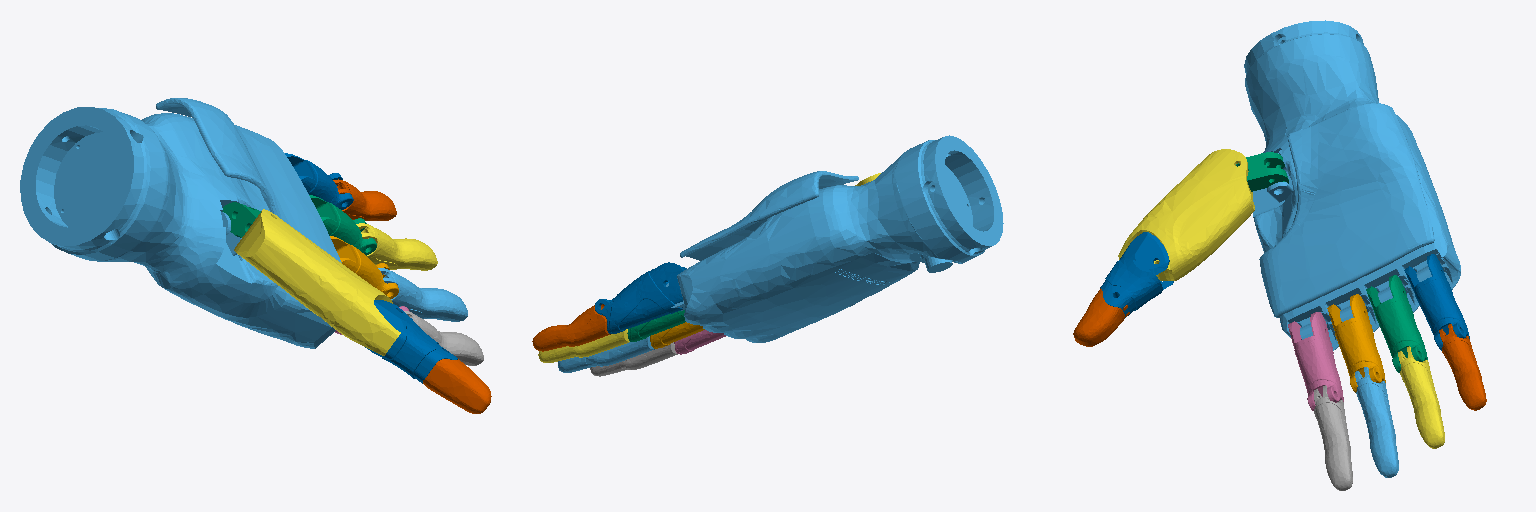
robot.urdf — inspire_hand_right:
<robot name="inspire_hand_right">
  <link name="base" />
  <joint name="base_joint" type="fixed">
    <parent link="base" />
    <child link="hand_base_link" />
    <origin xyz="-0.013 0.001 0.039" rpy="-2.31159 2.35841 -0.66159" />
    
    
  </joint>
  <link name="hand_base_link">
    <parent link="base" />
    <inertial>
      <origin xyz="-0.0025264 -0.066047 0.0019598" rpy="0 0 0" />
      <mass value="0.14143" />
      <inertia ixx="0.00012281" ixy="2.1711E-06" ixz="1.7709E-06" iyy="8.3832E-05" iyz="-1.6551E-06" izz="7.6663E-05" />
    </inertial>
    <visual>
      <origin xyz="0 0 0" rpy="0 0 0" />
      <geometry>
        <mesh filename="meshes/visual/right_base_link.obj" />
      </geometry>
    </visual>
    <collision>
      <origin xyz="0 -0.0136 0" rpy="1.57079 0 0" />
      <geometry>
        <cylinder length="0.0278" radius="0.028" />
      </geometry>
    </collision>
    <collision>
      <origin xyz="-0.0032 -0.038 0" rpy="0 0 0" />
      <geometry>
        <box size="0.0391 0.0202 0.0574" />
      </geometry>
    </collision>
    <collision>
      <origin xyz="-0.0032 -0.0682 0" rpy="0 0 0" />
      <geometry>
        <box size="0.0391 0.04 0.0814" />
      </geometry>
    </collision>
    <collision>
      <origin xyz="0 -0.1081 0" rpy="0 0 0" />
      <geometry>
        <box size="0.0322 0.04 0.0814" />
      </geometry>
    </collision>
    <collision>
      <origin xyz="-0.0016 -0.1340 0.0309" rpy="0 0 0" />
      <geometry>
        <box size="0.0125 0.0111 0.0089" />
      </geometry>
    </collision>
    <collision>
      <origin xyz="-0.0016 -0.1340 0.0118" rpy="0 0 0" />
      <geometry>
        <box size="0.0125 0.0111 0.0089" />
      </geometry>
    </collision>
    <collision>
      <origin xyz="-0.0016 -0.1340 -0.0070" rpy="0 0 0" />
      <geometry>
        <box size="0.0125 0.0111 0.0089" />
      </geometry>
    </collision>
    <collision>
      <origin xyz="-0.0016 -0.1340 -0.0262" rpy="0 0 0" />
      <geometry>
        <box size="0.0125 0.0111 0.0089" />
      </geometry>
    </collision>
  </link>
  <link name="thumb_proximal_base">
    <inertial>
      <origin xyz="-0.0048064 0.0009382 -0.00757" rpy="0 0 0" />
      <mass value="0.0018869" />
      <inertia ixx="5.816E-08" ixy="1.4539E-08" ixz="4.491E-09" iyy="7.9161E-08" iyz="-1.8727E-09" izz="6.7433E-08" />
    </inertial>
    <visual>
      <origin xyz="0 0 0" rpy="0 0 0" />
      <geometry>
        <mesh filename="meshes/visual/right_thumb_proximal_base.obj" />
      </geometry>
    </visual>
    <collision>
      <origin xyz="0 0 0" rpy="0 0 0" />
      <geometry>
        <mesh filename="meshes/collision/right_thumb_proximal_base.obj" />
      </geometry>
    </collision>
  </link>
  <joint name="thumb_proximal_yaw_joint" type="revolute">
    <origin xyz="-0.01696 -0.0691 -0.02045" rpy="1.5708 -1.5708 0" />
    <parent link="hand_base_link" />
    <child link="thumb_proximal_base" />
    <axis xyz="0 0 -1" />
    <limit lower="0.0" upper="1.308" effort="1" velocity="0.5" />
  </joint>
  <link name="thumb_proximal">
    <inertial>
      <origin xyz="0.021932 0.012785 -0.0080386" rpy="0 0 0" />
      <mass value="0.0066075" />
      <inertia ixx="1.5686E-06" ixy="-7.8296E-07" ixz="8.9143E-10" iyy="1.7353E-06" iyz="-1.0191E-09" izz="2.786E-06" />
    </inertial>
    <visual>
      <origin xyz="0 0 0" rpy="0 0 0" />
      <geometry>
        <mesh filename="meshes/visual/right_thumb_proximal.obj" />
      </geometry>
    </visual>
    <collision>
      <origin xyz="0 0 0" rpy="0 0 0" />
      <geometry>
        <mesh filename="meshes/collision/right_thumb_proximal.obj" />
      </geometry>
    </collision>
  </link>
  <joint name="thumb_proximal_pitch_joint" type="revolute">
    <origin xyz="-0.0088099 0.010892 -0.00925" rpy="1.5708 0 2.8587" />
    <parent link="thumb_proximal_base" />
    <child link="thumb_proximal" />
    <axis xyz="0 0 1" />
    <limit lower="0" upper="0.6" effort="1" velocity="0.5" />
  </joint>
  <link name="thumb_intermediate">
    <inertial>
      <origin xyz="0.0095544 -0.0016282 -0.0071997" rpy="0 0 0" />
      <mass value="0.0037847" />
      <inertia ixx="3.6981E-07" ixy="-9.8581E-08" ixz="-4.7469E-12" iyy="3.2394E-07" iyz="1.0939E-12" izz="4.6531E-07" />
    </inertial>
    <visual>
      <origin xyz="0 0 0" rpy="0 0 0" />
      <geometry>
        <mesh filename="meshes/visual/right_thumb_intermediate.obj" />
      </geometry>
    </visual>
    <collision>
      <origin xyz="0 0 0" rpy="0 0 0" />
      <geometry>
        <mesh filename="meshes/collision/right_thumb_intermediate.obj" />
      </geometry>
    </collision>
  </link>
  <joint name="thumb_intermediate_joint" type="revolute">
    <origin xyz="0.04407 0.034553 -0.0008" rpy="0 0 0" />
    <parent link="thumb_proximal" />
    <child link="thumb_intermediate" />
    <axis xyz="0 0 1" />
    <limit lower="0" upper="0.8" effort="1" velocity="0.5" />
    <mimic joint="thumb_proximal_pitch_joint" multiplier="1.334" offset="0" />
  </joint>
  <link name="thumb_distal">
    <inertial>
      <origin xyz="0.0092888 0.0049529 -0.0060033" rpy="0 0 0" />
      <mass value="0.0033441" />
      <inertia ixx="1.3632E-07" ixy="-5.6788E-08" ixz="-9.2764E-11" iyy="1.4052E-07" iyz="-1.2283E-10" izz="2.0026E-07" />
    </inertial>
    <visual>
      <origin xyz="0 0 0" rpy="0 0 0" />
      <geometry>
        <mesh filename="meshes/visual/right_thumb_distal.obj" />
      </geometry>
    </visual>
    <collision>
      <origin xyz="0 0 0" rpy="0 0 0" />
      <geometry>
        <mesh filename="meshes/collision/right_thumb_distal.obj" />
      </geometry>
    </collision>
  </link>
  <joint name="thumb_distal_joint" type="revolute">
    <origin xyz="0.020248 0.010156 -0.0012" rpy="0 0 0" />
    <parent link="thumb_intermediate" />
    <child link="thumb_distal" />
    <axis xyz="0 0 1" />
    <limit lower="0" upper="0.4" effort="1" velocity="0.5" />
    <mimic joint="thumb_proximal_pitch_joint" multiplier="0.667" offset="0" />
  </joint>
  <link name="index_proximal">
    <inertial>
      <origin xyz="0.0012259 0.011942 -0.0060001" rpy="0 0 0" />
      <mass value="0.0042403" />
      <inertia ixx="6.6232E-07" ixy="-1.5775E-08" ixz="1.8515E-12" iyy="2.1146E-07" iyz="-5.0828E-12" izz="6.9398E-07" />
    </inertial>
    <visual>
      <origin xyz="0 0 0" rpy="0 0 0" />
      <geometry>
        <mesh filename="meshes/visual/right_index_proximal.obj" />
      </geometry>
    </visual>
    <collision>
      <origin xyz="0 0 0" rpy="0 0 0" />
      <geometry>
        <mesh filename="meshes/collision/right_index_proximal.obj" />
      </geometry>
    </collision>
  </link>
  <joint name="index_proximal_joint" type="revolute">
    <origin xyz="0.00028533 -0.13653 -0.032268" rpy="-3.1067 0 0" />
    <parent link="hand_base_link" />
    <child link="index_proximal" />
    <axis xyz="0 0 1" />
    <limit lower="0" upper="1.47" effort="1" velocity="0.5" />
  </joint>
  <link name="index_intermediate">
    <inertial>
      <origin xyz="0.0019697 0.019589 -0.005" rpy="0 0 0" />
      <mass value="0.0045683" />
      <inertia ixx="7.6111E-07" ixy="8.7637E-08" ixz="-3.7751E-13" iyy="9.6076E-08" iyz="9.9444E-13" izz="7.8179E-07" />
    </inertial>
    <visual>
      <origin xyz="0 0 0" rpy="0 0 0" />
      <geometry>
        <mesh filename="meshes/visual/right_index_intermediate.obj" />
      </geometry>
    </visual>
    <collision>
      <origin xyz="0 0 0" rpy="0 0 0" />
      <geometry>
        <mesh filename="meshes/collision/right_index_intermediate.obj" />
      </geometry>
    </collision>
  </link>
  <joint name="index_intermediate_joint" type="revolute">
    <origin xyz="-0.0026138 0.032026 -0.001" rpy="0 0 0" />
    <parent link="index_proximal" />
    <child link="index_intermediate" />
    <axis xyz="0 0 1" />
    <limit lower="-0.04545" upper="1.56" effort="1" velocity="0.5" />
    <mimic joint="index_proximal_joint" multiplier="1.06399" offset="-0.04545" />
  </joint>
  <link name="middle_proximal">
    <inertial>
      <origin xyz="0.001297 0.011934 -0.0060001" rpy="0 0 0" />
      <mass value="0.0042403" />
      <inertia ixx="6.6211E-07" ixy="-1.8461E-08" ixz="1.8002E-12" iyy="2.1167E-07" iyz="-6.6808E-12" izz="6.9397E-07" />
    </inertial>
    <visual>
      <origin xyz="0 0 0" rpy="0 0 0" />
      <geometry>
        <mesh filename="meshes/visual/right_index_proximal.obj" />
      </geometry>
    </visual>
    <collision>
      <origin xyz="0 0 0" rpy="0 0 0" />
      <geometry>
        <mesh filename="meshes/collision/right_index_proximal.obj" />
      </geometry>
    </collision>
  </link>
  <joint name="middle_proximal_joint" type="revolute">
    <origin xyz="0.00028533 -0.1371 -0.01295" rpy="-3.1416 0 0" />
    <parent link="hand_base_link" />
    <child link="middle_proximal" />
    <axis xyz="0 0 1" />
    <limit lower="0" upper="1.47" effort="1" velocity="0.5" />
  </joint>
  <link name="middle_intermediate">
    <inertial>
      <origin xyz="0.001921 0.020796 -0.005" rpy="0 0 0" />
      <mass value="0.0050396" />
      <inertia ixx="9.5822E-07" ixy="1.1425E-07" ixz="-2.4791E-12" iyy="1.0646E-07" iyz="5.9173E-12" izz="9.8384E-07" />
    </inertial>
    <visual>
      <origin xyz="0 0 0" rpy="0 0 0" />
      <geometry>
        <mesh filename="meshes/visual/right_middle_intermediate.obj" />
      </geometry>
    </visual>
    <collision>
      <origin xyz="0 0 0" rpy="0 0 0" />
      <geometry>
        <mesh filename="meshes/collision/right_middle_intermediate.obj" />
      </geometry>
    </collision>
  </link>
  <joint name="middle_intermediate_joint" type="revolute">
    <origin xyz="-0.0024229 0.032041 -0.001" rpy="0 0 0" />
    <parent link="middle_proximal" />
    <child link="middle_intermediate" />
    <axis xyz="0 0 1" />
    <limit lower="-0.04545" upper="1.56" effort="1" velocity="0.5" />
    <mimic joint="middle_proximal_joint" multiplier="1.06399" offset="-0.04545" />
  </joint>
  <link name="ring_proximal">
    <inertial>
      <origin xyz="0.001297 0.011934 -0.0060002" rpy="0 0 0" />
      <mass value="0.0042403" />
      <inertia ixx="6.6211E-07" ixy="-1.8461E-08" ixz="1.5793E-12" iyy="2.1167E-07" iyz="-6.6868E-12" izz="6.9397E-07" />
    </inertial>
    <visual>
      <origin xyz="0 0 0" rpy="0 0 0" />
      <geometry>
        <mesh filename="meshes/visual/right_index_proximal.obj" />
      </geometry>
    </visual>
    <collision>
      <origin xyz="0 0 0" rpy="0 0 0" />
      <geometry>
        <mesh filename="meshes/collision/right_index_proximal.obj" />
      </geometry>
    </collision>
  </link>
  <joint name="ring_proximal_joint" type="revolute">
    <origin xyz="0.00028533 -0.13691 0.0062872" rpy="3.0892 0 0" />
    <parent link="hand_base_link" />
    <child link="ring_proximal" />
    <axis xyz="0 0 1" />
    <limit lower="0" upper="1.47" effort="1" velocity="0.5" />
  </joint>
  <link name="ring_intermediate">
    <inertial>
      <origin xyz="0.0021753 0.019567 -0.005" rpy="0 0 0" />
      <mass value="0.0045683" />
      <inertia ixx="7.6286E-07" ixy="8.0635E-08" ixz="-6.1562E-13" iyy="9.431E-08" iyz="5.8619E-13" izz="7.8177E-07" />
    </inertial>
    <visual>
      <origin xyz="0 0 0" rpy="0 0 0" />
      <geometry>
        <mesh filename="meshes/visual/right_index_intermediate.obj" />
      </geometry>
    </visual>
    <collision>
      <origin xyz="0 0 0" rpy="0 0 0" />
      <geometry>
        <mesh filename="meshes/collision/right_index_intermediate.obj" />
      </geometry>
    </collision>
  </link>
  <joint name="ring_intermediate_joint" type="revolute">
    <origin xyz="-0.0024229 0.032041 -0.001" rpy="0 0 0" />
    <parent link="ring_proximal" />
    <child link="ring_intermediate" />
    <axis xyz="0 0 1" />
    <limit lower="-0.04545" upper="1.56" effort="1" velocity="0.5" />
    <mimic joint="ring_proximal_joint" multiplier="1.06399" offset="-0.04545" />
  </joint>
  <link name="pinky_proximal">
    <inertial>
      <origin xyz="0.001297 0.011934 -0.0060001" rpy="0 0 0" />
      <mass value="0.0042403" />
      <inertia ixx="6.6211E-07" ixy="-1.8461E-08" ixz="1.6907E-12" iyy="2.1167E-07" iyz="-6.9334E-12" izz="6.9397E-07" />
    </inertial>
    <visual>
      <origin xyz="0 0 0" rpy="0 0 0" />
      <geometry>
        <mesh filename="meshes/visual/right_index_proximal.obj" />
      </geometry>
    </visual>
    <collision>
      <origin xyz="0 0 0" rpy="0 0 0" />
      <geometry>
        <mesh filename="meshes/collision/right_index_proximal.obj" />
      </geometry>
    </collision>
  </link>
  <joint name="pinky_proximal_joint" type="revolute">
    <origin xyz="0.00028533 -0.13571 0.025488" rpy="3.0369 0 0" />
    <parent link="hand_base_link" />
    <child link="pinky_proximal" />
    <axis xyz="0 0 1" />
    <limit lower="0" upper="1.47" effort="1" velocity="0.5" />
  </joint>
  <link name="pinky_intermediate">
    <inertial>
      <origin xyz="0.0024748 0.016203 -0.0050031" rpy="0 0 0" />
      <mass value="0.0035996" />
      <inertia ixx="4.3913E-07" ixy="4.1418E-08" ixz="3.7168E-11" iyy="7.0247E-08" iyz="5.8613E-11" izz="4.4867E-07" />
    </inertial>
    <visual>
      <origin xyz="0 0 0" rpy="0 0 0" />
      <geometry>
        <mesh filename="meshes/visual/right_pinky_intermediate.obj" />
      </geometry>
    </visual>
    <collision>
      <origin xyz="0 0 0" rpy="0 0 0" />
      <geometry>
        <mesh filename="meshes/collision/right_pinky_intermediate.obj" />
      </geometry>
    </collision>
  </link>
  <joint name="pinky_intermediate_joint" type="revolute">
    <origin xyz="-0.0024229 0.032041 -0.001" rpy="0 0 0" />
    <parent link="pinky_proximal" />
    <child link="pinky_intermediate" />
    <axis xyz="0 0 1" />
    <limit lower="-0.04545" upper="1.56" effort="1" velocity="0.5" />
    <mimic joint="pinky_proximal_joint" multiplier="1.06399" offset="-0.04545" />
  </joint>

  <link name="thumb_tip" />
  <joint name="thumb_tip_joint" type="fixed">
    <origin xyz="0.0202 0.0140 -0.006" rpy="0 0 0" />
    <parent link="thumb_distal" />
    <child link="thumb_tip" />
  </joint>
  <link name="index_tip" />
  <joint name="index_tip_joint" type="fixed">
    <origin xyz="-0.0008 0.045 -0.005" rpy="0 0 0" />
    <parent link="index_intermediate" />
    <child link="index_tip" />
  </joint>
  <link name="middle_tip" />
  <joint name="middle_tip_joint" type="fixed">
    <origin xyz="-0.001 0.048 -0.005" rpy="0 0 0" />
    <parent link="middle_intermediate" />
    <child link="middle_tip" />
  </joint>
  <link name="ring_tip" />
  <joint name="ring_tip_joint" type="fixed">
    <origin xyz="-0.0008 0.045 -0.005" rpy="0 0 0" />
    <parent link="ring_intermediate" />
    <child link="ring_tip" />
  </joint>
  <link name="pinky_tip" />
  <joint name="pinky_tip_joint" type="fixed">
    <origin xyz="-0.0008 0.037 -0.005" rpy="0 0 0" />
    <parent link="pinky_intermediate" />
    <child link="pinky_tip" />
  </joint>
</robot>

--- Facts derived from the render (not from the file) ---
3 views of the same robot in one strip: view 1: azimuth 30°, elevation 25°; view 2: azimuth 150°, elevation 25°; view 3: azimuth 270°, elevation 25° (orthographic).
Robot: inspire_hand_right — 19 links, 18 joints (12 revolute, 6 fixed); root link base; default pose: every joint at zero.
Links seen in each view (by area): view 1: hand_base_link, thumb_proximal, thumb_intermediate, thumb_distal, middle_intermediate, ring_intermediate, pinky_proximal, ring_proximal, pinky_intermediate, middle_proximal, index_intermediate, thumb_proximal_base; view 2: hand_base_link, pinky_proximal, pinky_intermediate, middle_intermediate, ring_intermediate, index_intermediate, ring_proximal, middle_proximal, index_proximal; view 3: hand_base_link, thumb_proximal, thumb_intermediate, index_proximal, middle_proximal, ring_proximal, middle_intermediate, pinky_proximal, index_intermediate, ring_intermediate, pinky_intermediate, thumb_distal (+1 smaller).
Link boxes in pixels (x1,y1,x2,y2): hand_base_link: [20, 98, 341, 348]; thumb_proximal: [234, 209, 400, 355]; thumb_intermediate: [365, 300, 457, 383]; thumb_distal: [423, 359, 491, 413]; middle_intermediate: [378, 268, 467, 321]; ring_intermediate: [356, 223, 437, 270]; pinky_proximal: [285, 153, 353, 209]; ring_proximal: [309, 195, 376, 255]; pinky_intermediate: [333, 179, 396, 220]; middle_proximal: [330, 236, 398, 298]; index_intermediate: [404, 311, 483, 365]; thumb_proximal_base: [222, 202, 260, 237]; hand_base_link: [666, 135, 1003, 342]; pinky_proximal: [595, 262, 686, 333]; pinky_intermediate: [532, 304, 610, 351]; middle_intermediate: [558, 336, 654, 372]; ring_intermediate: [538, 329, 629, 362]; index_intermediate: [590, 342, 677, 376]; ring_proximal: [627, 310, 685, 341]; middle_proximal: [650, 322, 704, 348]; index_proximal: [674, 330, 725, 354]; hand_base_link: [1244, 20, 1460, 350]; thumb_proximal: [1118, 149, 1254, 280]; thumb_intermediate: [1100, 232, 1173, 317]; index_proximal: [1288, 312, 1343, 410]; middle_proximal: [1327, 294, 1385, 392]; ring_proximal: [1366, 275, 1427, 372]; middle_intermediate: [1355, 367, 1398, 477]; pinky_proximal: [1404, 254, 1469, 350]; index_intermediate: [1314, 385, 1352, 490]; ring_intermediate: [1398, 346, 1444, 448]; pinky_intermediate: [1439, 324, 1486, 410]; thumb_distal: [1073, 288, 1129, 346].
Bounding box of the posed robot: 0.1984 × 0.1761 × 0.145 m (x, y, z).
Meshes: 9 distinct files referenced, 13 mesh visuals loaded (9 OBJ).
